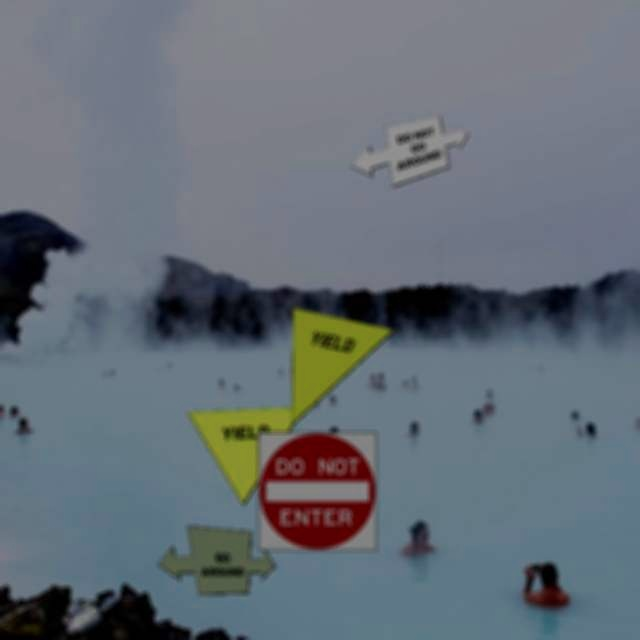DO_NOT_ENTER: (258, 432, 377, 551)
DO_NOT_GO_AROUND: (350, 115, 469, 187)
GO_AROUND: (157, 525, 276, 595)
YIELD: (291, 307, 395, 426), (186, 406, 305, 506)
